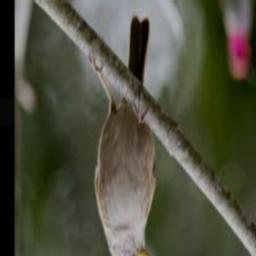Sparrow: (89, 17, 156, 256)
